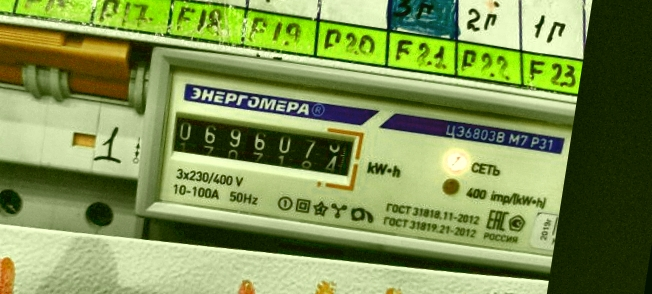0: (275, 131, 293, 155), (176, 118, 193, 141)
4: (323, 151, 339, 174)
6: (201, 121, 218, 144), (250, 129, 267, 151)
7: (300, 137, 318, 160)
9: (226, 125, 242, 148)
screen: (156, 99, 369, 189)
